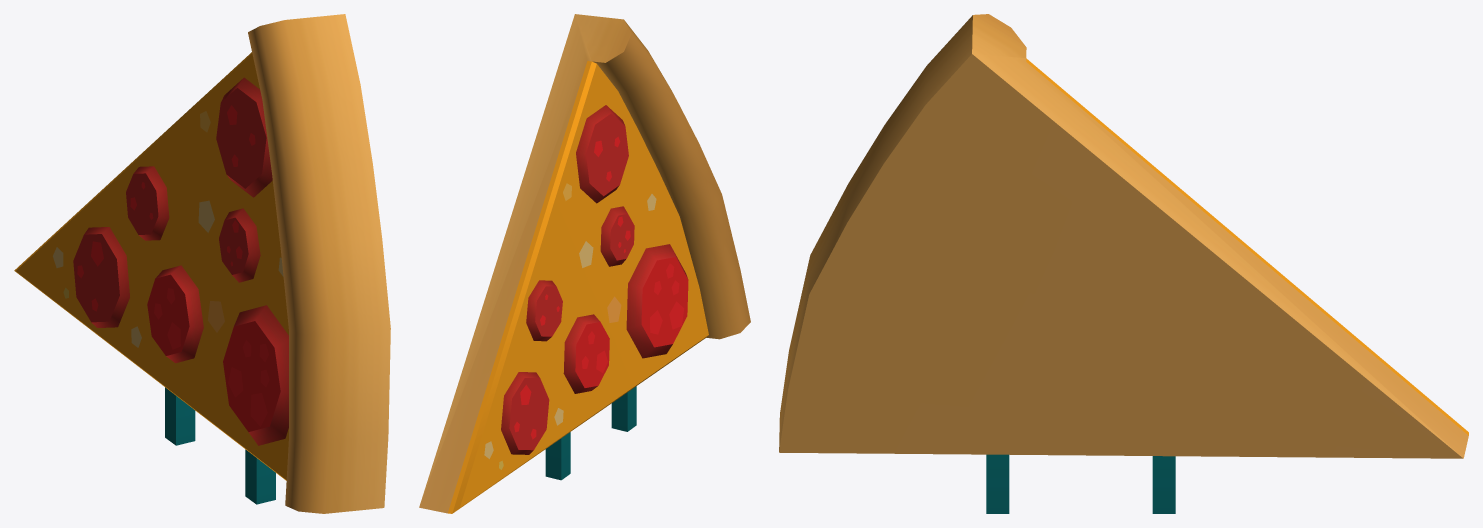
The model's file is PizzaSign_4_A.fbx.
3 renders of one model, left to right at view 1: azimuth 30°, elevation 25°; view 2: azimuth 150°, elevation 25°; view 3: azimuth 270°, elevation 25°, orthographic. The views are drawn at different scales.
Visible parts, largest first — view 1: PizzaSign_4_A; view 2: PizzaSign_4_A; view 3: PizzaSign_4_A.
Part boxes in pixels (bbox=[...]): PizzaSign_4_A: bbox=[14, 14, 390, 513]; PizzaSign_4_A: bbox=[419, 14, 750, 513]; PizzaSign_4_A: bbox=[779, 14, 1468, 513].
Size of the model in its own units: 61.19 by 216 by 270.
